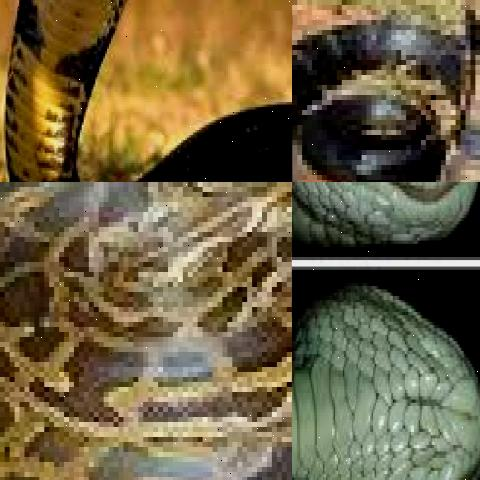snake: (0, 182, 292, 480), (0, 0, 292, 182), (292, 0, 480, 182), (292, 182, 480, 246)
